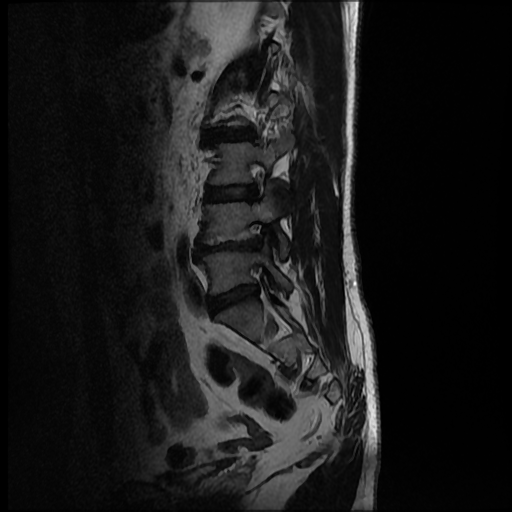LFS0: (234, 150, 270, 207)
